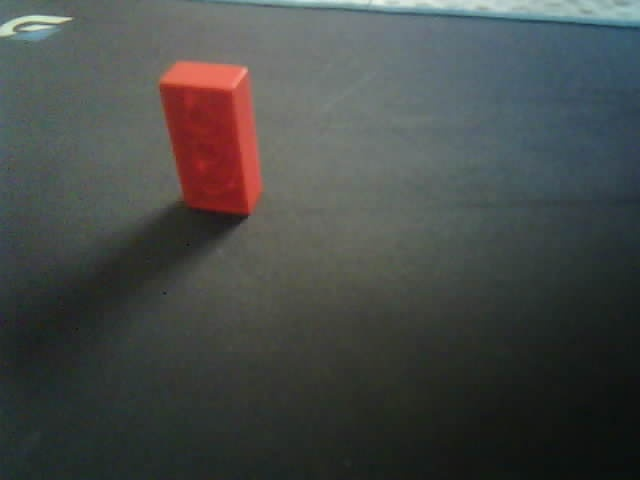lego: (157, 60, 263, 217)
